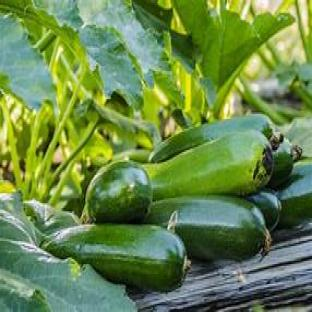Zucchini: (42, 225, 186, 290), (144, 131, 272, 199), (146, 197, 270, 260), (150, 114, 272, 163), (84, 161, 151, 222), (279, 162, 311, 227), (23, 200, 79, 236), (269, 139, 302, 188), (246, 190, 281, 231)
